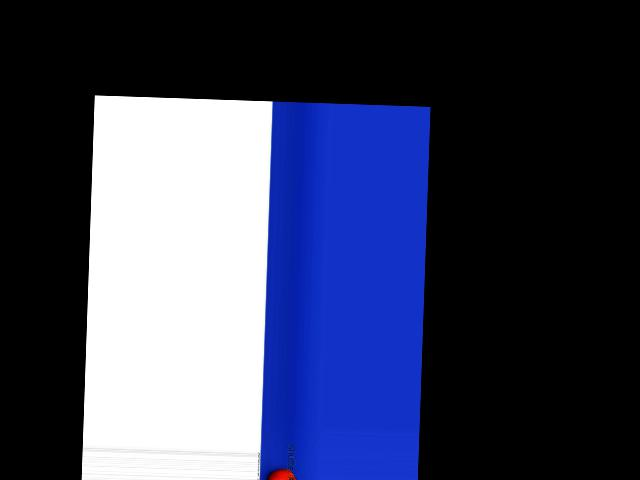tomato: (266, 469, 296, 480)
